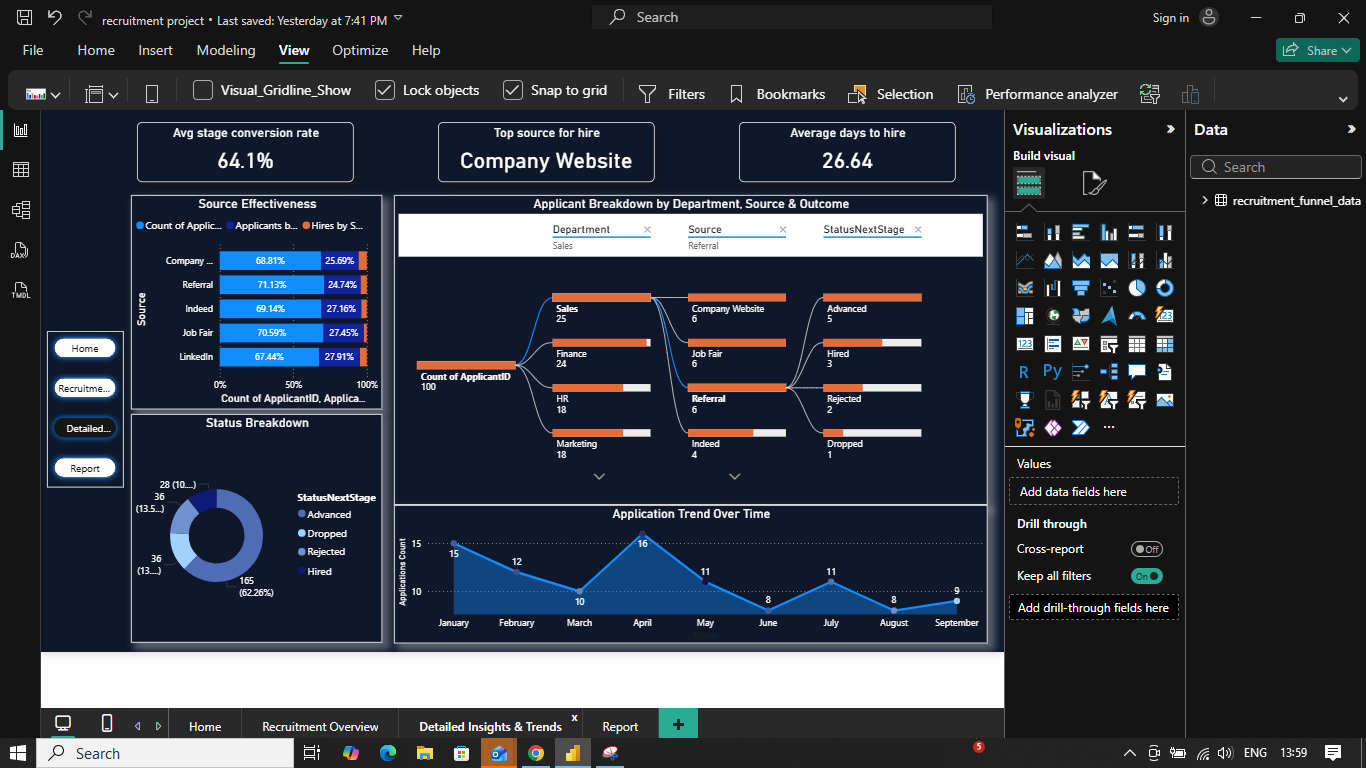

This screenshot's page, from the dashboard's own definition file:
{"tool":"powerbi","page":{"name":"Detailed Insights & Trends","canvas":[1280,720],"ordinal":2},"visuals":[{"type":"card","title":"Top source  for hire","fields":{"Values":["recruitment_funnel_data.Top Source"]},"box":[395.6,16,288,80],"z":1000},{"type":"decompositionTreeVisual","title":"Applicant Breakdown by Department, Source & Outcome","fields":{"Analyze":["Count(recruitment_funnel_data.ApplicantID)"],"ExplainBy":["recruitment_funnel_data.Department","recruitment_funnel_data.Source","recruitment_funnel_data.StatusNextStage"]},"box":[469.3,112.9,788.6,411.5],"z":2000},{"type":"card","title":"Average days to hire","fields":{"Values":["recruitment_funnel_data.Average Days to Hire"]},"box":[795.6,16,288,80],"z":3000},{"type":"hundredPercentStackedBarChart","title":"Source Effectiveness","fields":{"Category":["recruitment_funnel_data.Source"],"Y":["CountNonNull(recruitment_funnel_data.ApplicantID)","recruitment_funnel_data.Applicants by Source","recruitment_funnel_data.Hires by Source"]},"box":[119.7,112.9,334.5,284.9],"z":4000},{"type":"lineChart","title":"Application Trend Over Time","fields":{"Category":["recruitment_funnel_data.DateOfApplication.Variation.Date Hierarchy.Month"],"Y":["recruitment_funnel_data.Applications Count"]},"box":[469.7,524.4,788.6,184.4],"z":5000},{"type":"donutChart","title":"Status Breakdown","fields":{"Category":["recruitment_funnel_data.StatusNextStage"],"Y":["CountNonNull(recruitment_funnel_data.ApplicantID)"]},"box":[120.1,404.6,334.5,304.2],"z":6000},{"type":"pageNavigator","box":[0,288,112,240],"z":7000}]}

Visuals, with their boxes on the page's 1280x720 design canvas (x1, y1, x2, y2). These are canvas units, not pixel positions in the 1366x768 screenshot, which may show the page scaled, cropped or inside an application window:
"Top source  for hire" card: [left=396, top=16, right=684, bottom=96]
"Applicant Breakdown by Department, Source & Outcome" decompositionTreeVisual: [left=469, top=113, right=1258, bottom=524]
"Average days to hire" card: [left=796, top=16, right=1084, bottom=96]
"Source Effectiveness" hundredPercentStackedBarChart: [left=120, top=113, right=454, bottom=398]
"Application Trend Over Time" lineChart: [left=470, top=524, right=1258, bottom=709]
"Status Breakdown" donutChart: [left=120, top=405, right=455, bottom=709]
pageNavigator: [left=0, top=288, right=112, bottom=528]
